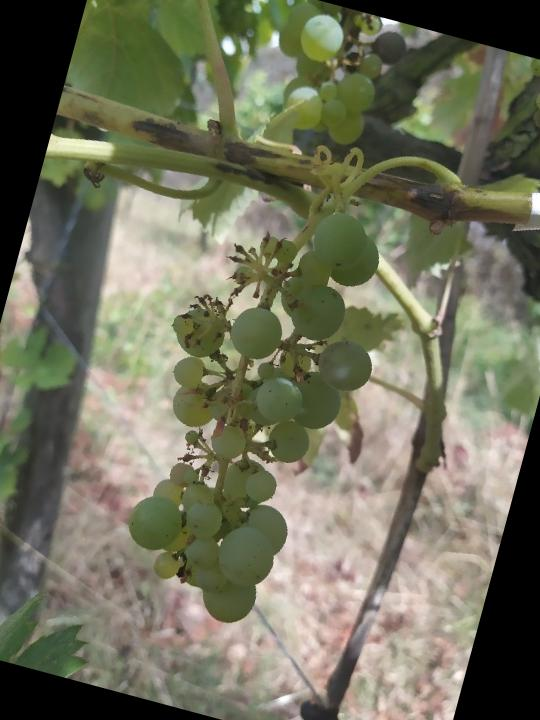grape: (98, 175, 413, 646)
